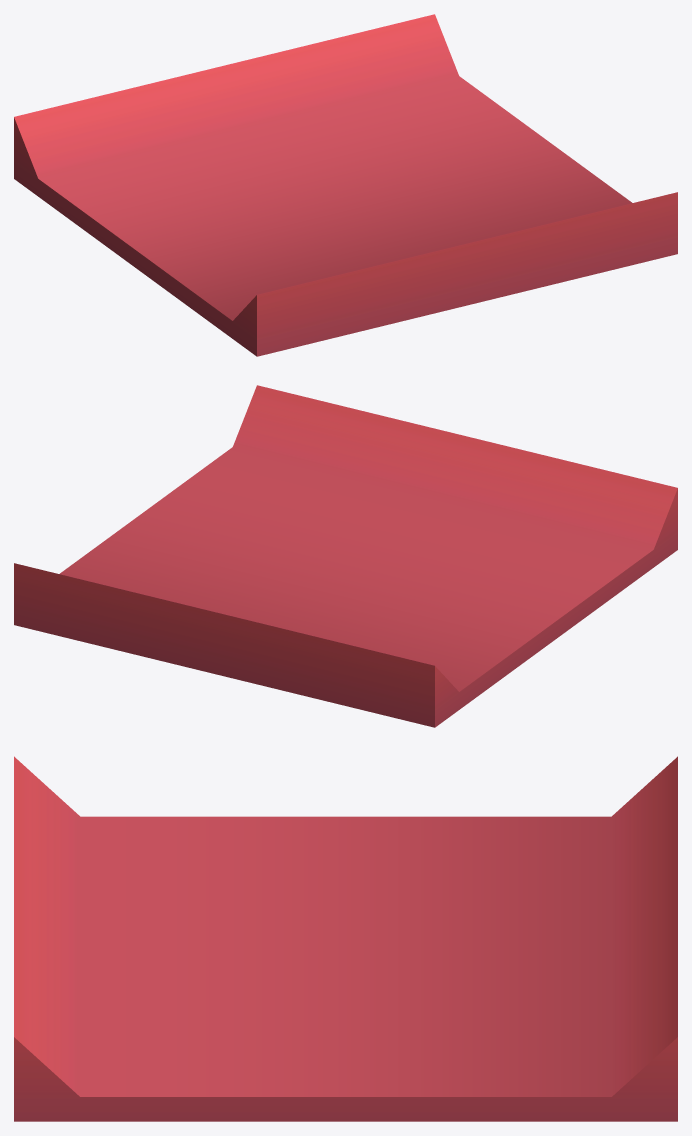
Rendered from roof-high-flat.glb.
3 views of the same model, one above another, from view 1: azimuth 30°, elevation 25°; view 2: azimuth 150°, elevation 25°; view 3: azimuth 270°, elevation 25° (orthographic). The views are drawn at different scales.
Parts seen in each view (by area): view 1: roof-high-flat; view 2: roof-high-flat; view 3: roof-high-flat.
Boxes of the visible parts, <box> form: roof-high-flat: <box>14,14,677,356</box>; roof-high-flat: <box>14,385,677,727</box>; roof-high-flat: <box>14,756,677,1121</box>.
Bounding box in the file's own units: 1 × 0.1408 × 1.
Materials: 1 (1 with a texture image).
